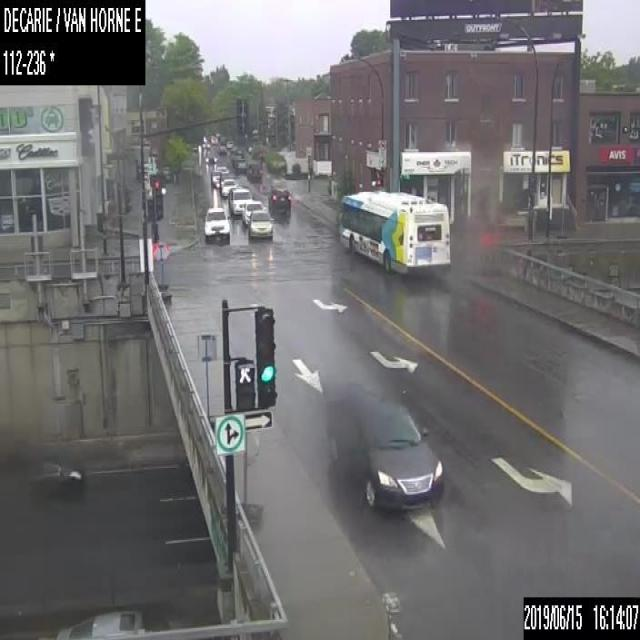bus: (337, 188, 450, 276)
construction: (234, 426, 262, 524), (195, 331, 223, 427), (152, 239, 172, 303)
vehicle: (327, 394, 443, 510), (49, 609, 145, 639), (23, 456, 82, 499), (201, 208, 229, 241), (246, 208, 274, 237), (228, 185, 255, 215), (267, 185, 290, 212), (243, 199, 266, 225), (220, 177, 237, 197), (247, 161, 262, 181), (218, 172, 234, 186), (234, 157, 247, 174), (210, 169, 222, 186), (204, 150, 216, 162), (216, 164, 229, 174), (217, 146, 225, 153), (226, 140, 232, 147)
